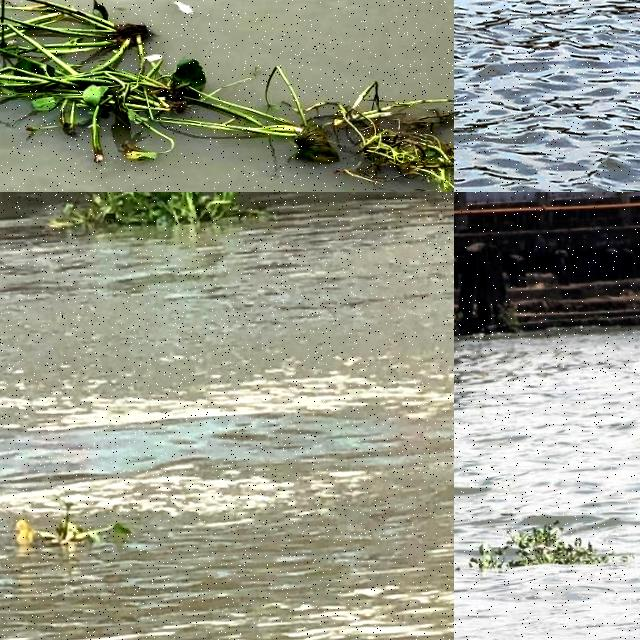water-hyacinth: (1, 1, 455, 193), (43, 193, 287, 262), (455, 520, 633, 574), (16, 501, 136, 552)
